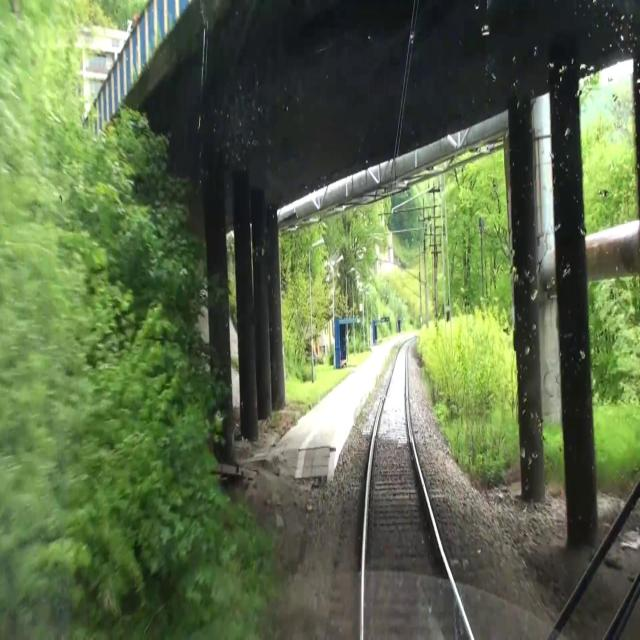rail-track: (365, 344, 468, 639)
